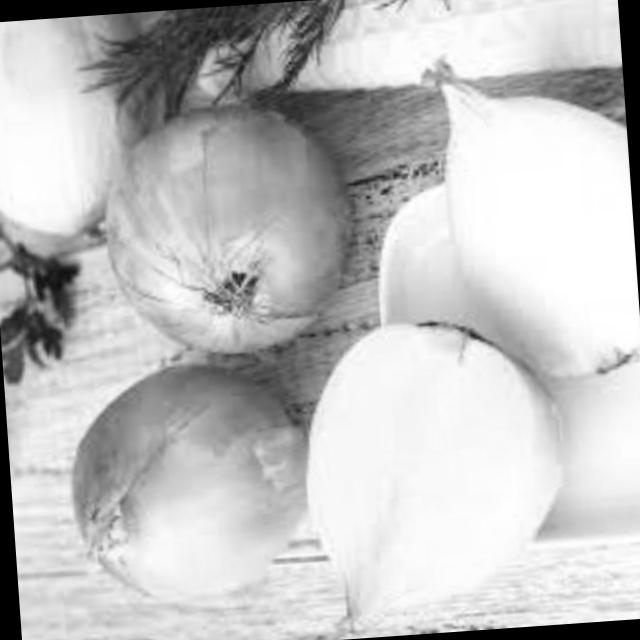onion: (282, 296, 581, 636), (406, 19, 640, 419), (80, 74, 369, 368), (36, 326, 327, 616), (0, 14, 175, 282)
